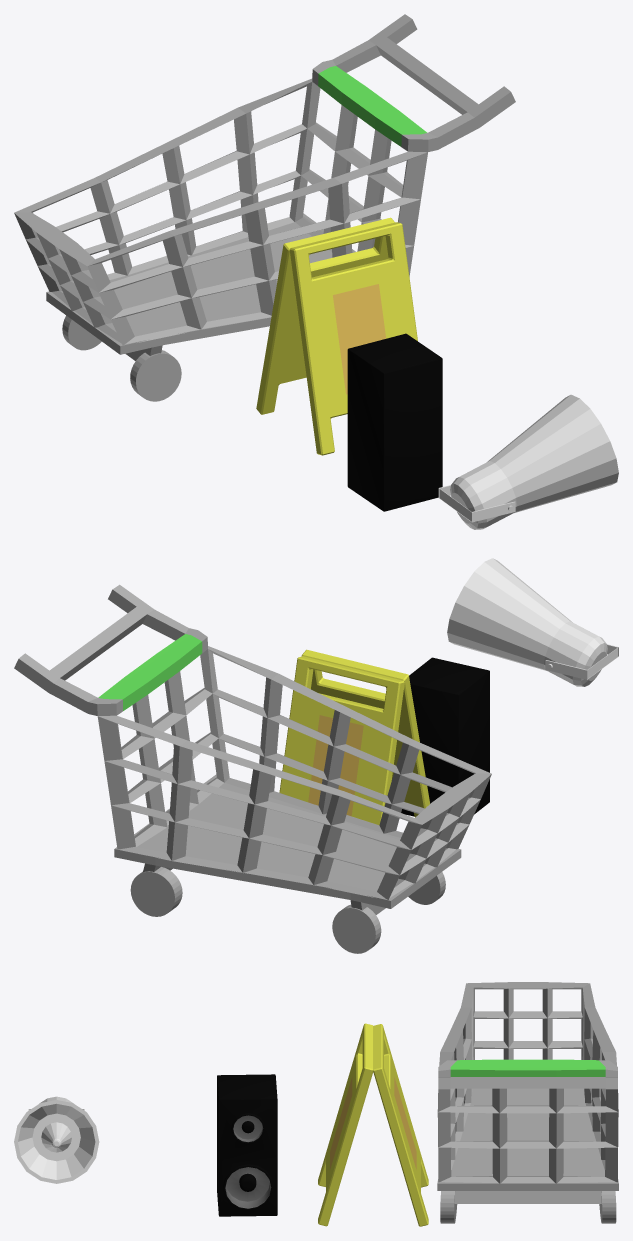
Rendered from E_ExtraObjects_c.fbx.
3 views of the same model, one above another, from view 1: azimuth 30°, elevation 25°; view 2: azimuth 150°, elevation 25°; view 3: azimuth 270°, elevation 25° (orthographic). The views are drawn at different scales.
Parts seen in each view (by area): view 1: MarketArabası, DikkatLevhası, hoparlör2, Megafon; view 2: MarketArabası, DikkatLevhası, Megafon, hoparlör2; view 3: MarketArabası, hoparlör2, DikkatLevhası, Megafon.
Part boxes in pixels (<box>): MarketArabası: <box>14,14,515,401</box>; DikkatLevhası: <box>256,217,417,455</box>; hoparlör2: <box>347,333,442,511</box>; Megafon: <box>438,394,618,529</box>; MarketArabası: <box>14,584,491,953</box>; DikkatLevhası: <box>279,649,429,825</box>; Megafon: <box>447,558,618,686</box>; hoparlör2: <box>401,657,489,816</box>; MarketArabası: <box>437,982,618,1223</box>; hoparlör2: <box>217,1074,277,1216</box>; DikkatLevhası: <box>318,1023,428,1226</box>; Megafon: <box>14,1096,99,1183</box>.
Size of the model in its own units: 171 by 103 by 255.
